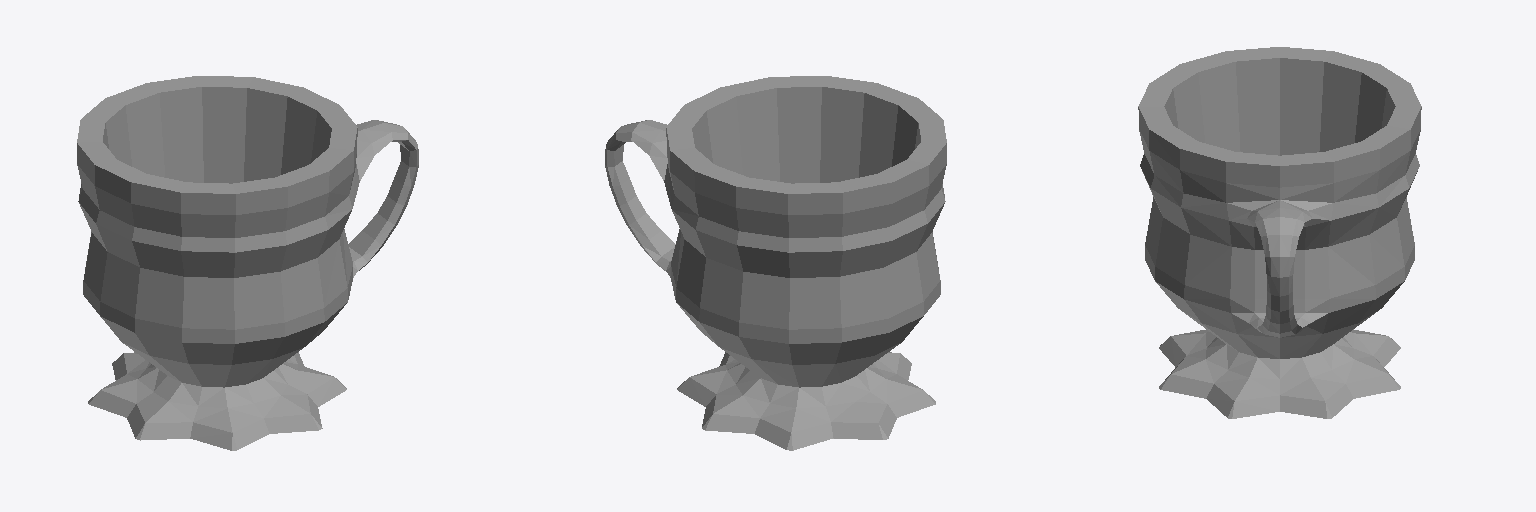
File: trn_CupCeramic.obj
3 renders of one model, left to right at view 1: azimuth 30°, elevation 25°; view 2: azimuth 150°, elevation 25°; view 3: azimuth 270°, elevation 25°, orthographic.
Parts seen in each view (by area): view 1: trn_CupCeramic_Mesh.023; view 2: trn_CupCeramic_Mesh.023; view 3: trn_CupCeramic_Mesh.023.
Boxes of the visible parts, box(x1,y1,x2,y2) form: trn_CupCeramic_Mesh.023: box(77, 76, 418, 450); trn_CupCeramic_Mesh.023: box(605, 76, 946, 450); trn_CupCeramic_Mesh.023: box(1138, 47, 1421, 418).
Size of the model in its own units: 0.2139 by 0.1655 by 0.1625.